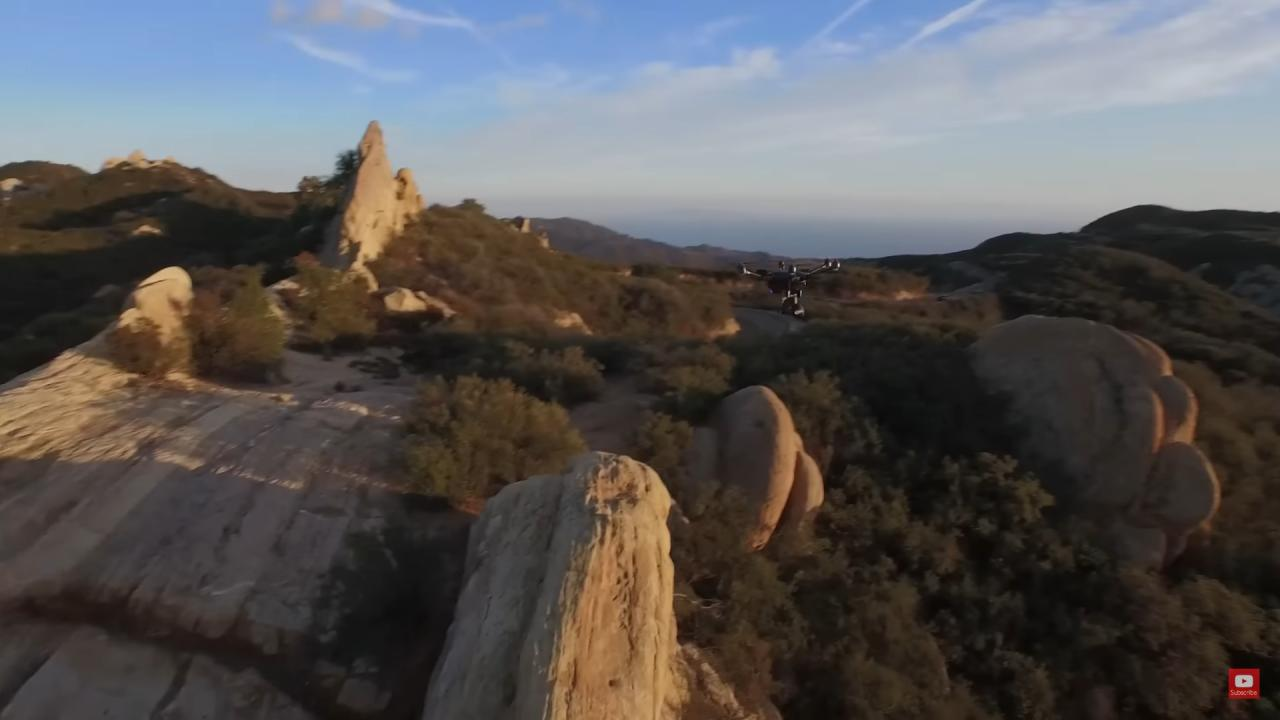Drone: (722, 248, 859, 330)
